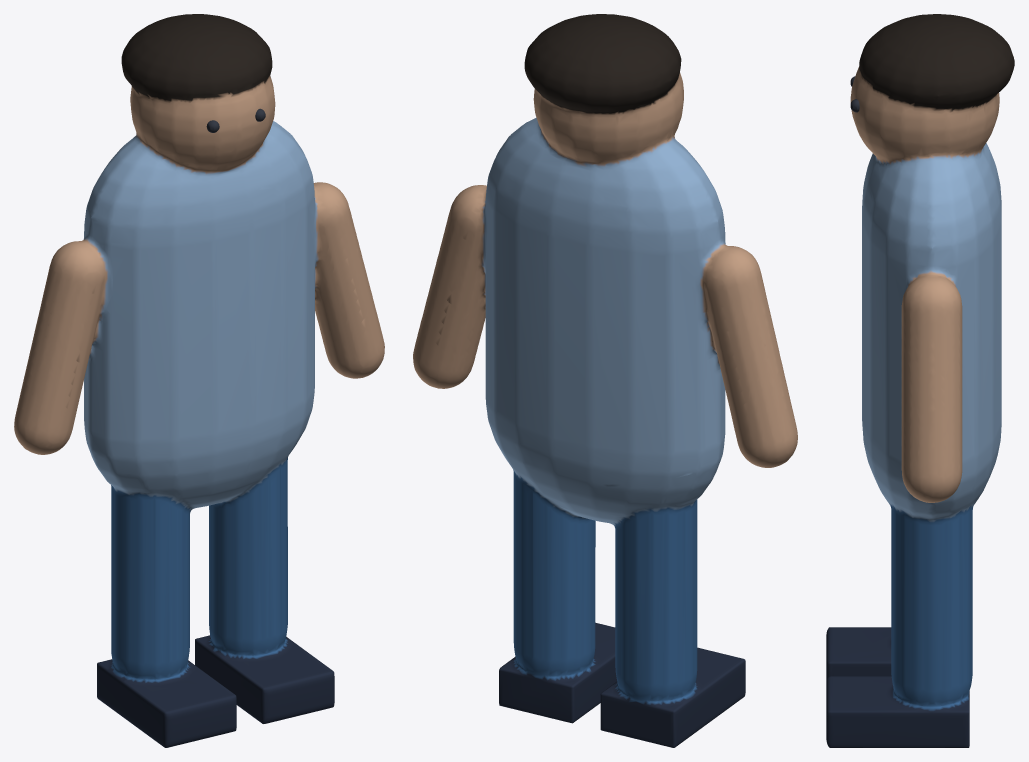
Rendered from npc-parents.glb.
3 views of the same model, side by side, from view 1: azimuth 30°, elevation 25°; view 2: azimuth 150°, elevation 25°; view 3: azimuth 270°, elevation 25° (orthographic). The views are drawn at different scales.
Visible parts, largest first — view 1: ba-com-body; view 2: ba-com-body; view 3: ba-com-body.
Boxes of the visible parts, x1,y1,x2,y2 form: ba-com-body: [14, 14, 384, 747]; ba-com-body: [413, 14, 797, 747]; ba-com-body: [826, 14, 1014, 747].
Bounding box in the file's own units: 1.51 × 2.64 × 0.6624.
